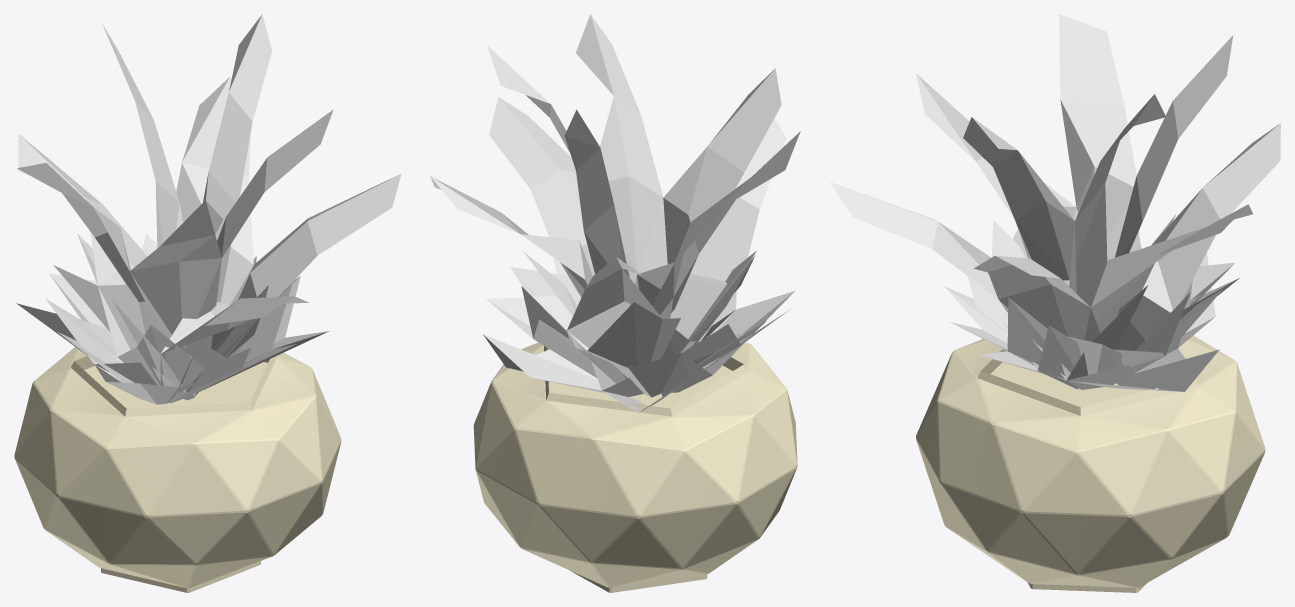
Rendered from plant.fbx.
3 views of the same model, side by side, from view 1: azimuth 30°, elevation 25°; view 2: azimuth 150°, elevation 25°; view 3: azimuth 270°, elevation 25° (orthographic). The views are drawn at different scales.
Parts seen in each view (by area): view 1: plant; view 2: plant; view 3: plant.
Part boxes in pixels (x1,y1,x2,y2): plant: (14,14,401,592); plant: (430,14,800,592); plant: (829,14,1280,592).
Bounding box in the file's own units: 243 × 344 × 268.
